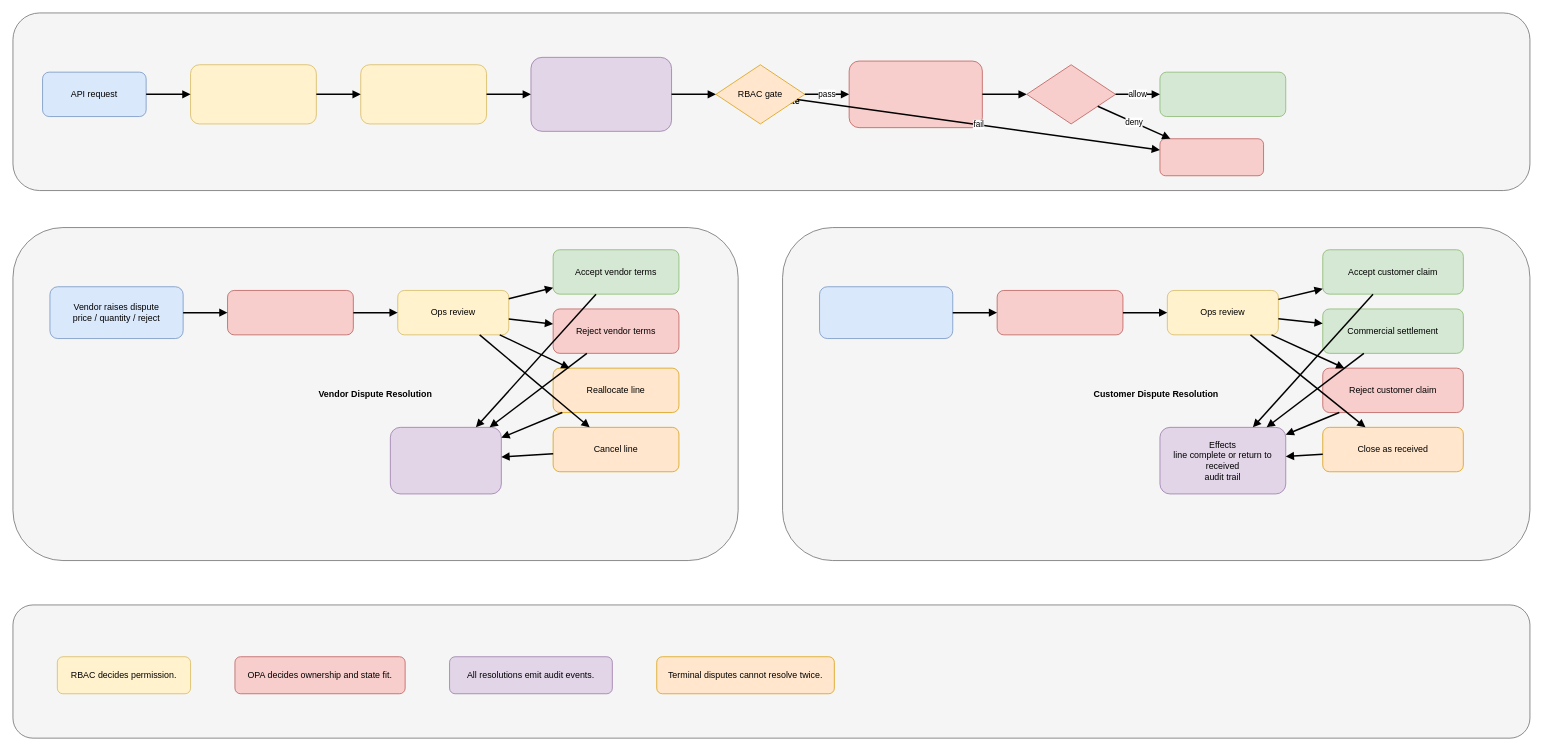
Some shapes in this 1543 by 751 pixel diagram are drawn without their labels. Here are the shapes that lost their labels. From the top down, the centre of each, then its label:
At pixel 253 94: "Auth decode header or Entra JWT".
At pixel 423 94: "Resolve tenant roles permissions".
At pixel 601 94: "Load resource context vendor_id customer_id PO state dispute state".
At pixel 915 94: "OPA policy check tenant ownership state rules".
At pixel 1071 94: "Allow?".
At pixel 1222 94: "Business handler runs".
At pixel 1211 157: "403 deny".
At pixel 290 312: "Dispute record created".
At pixel 886 312: "Customer records short or damaged receipt".
At pixel 1059 312: "Customer dispute record".
At pixel 445 460: "Effects PO update order line update audit trail".
